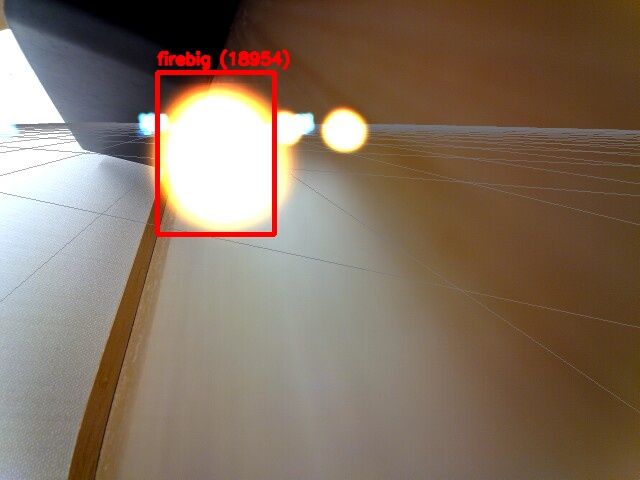firebig: (157, 72, 274, 234)
